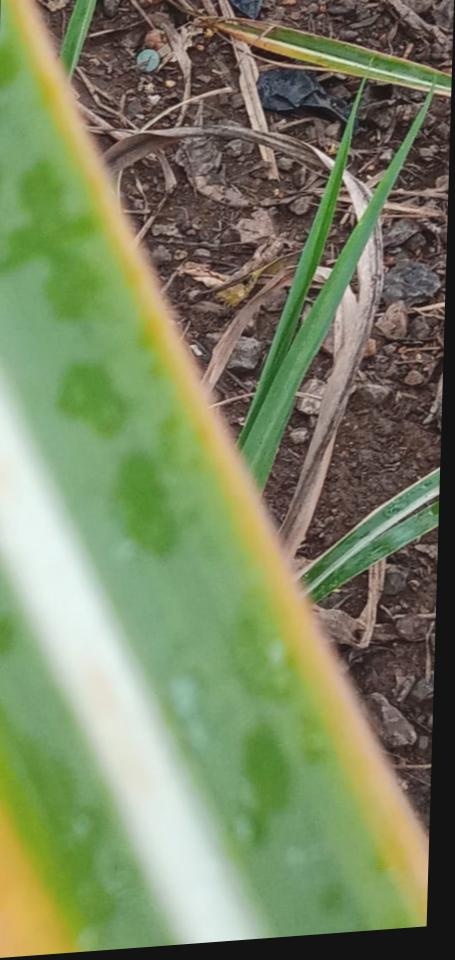Yellow: (10, 2, 427, 927), (0, 803, 81, 957)
